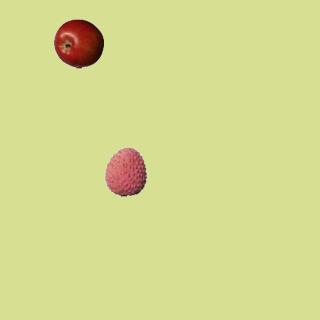Apple Braeburn: (53, 18, 103, 68)
Lychee: (100, 146, 150, 196)
